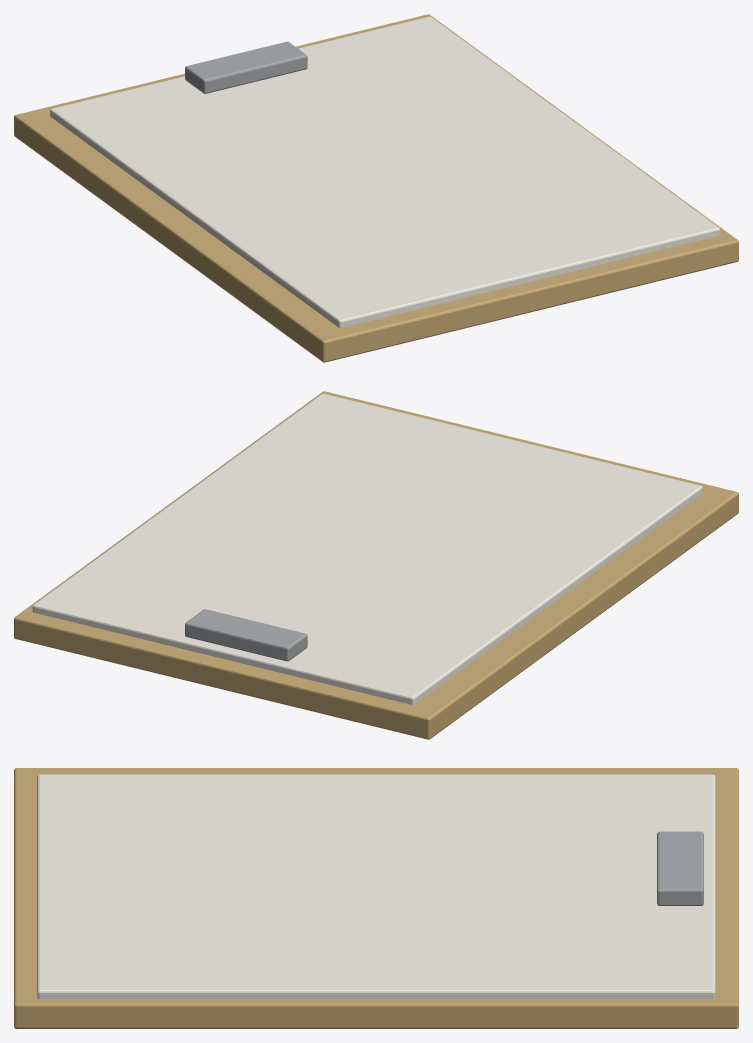
Rendered from PROP_Folder_MedicalChart.glb.
3 views of the same model, one above another, from view 1: azimuth 30°, elevation 25°; view 2: azimuth 150°, elevation 25°; view 3: azimuth 270°, elevation 25° (orthographic). The views are drawn at different scales.
Visible parts, largest first — view 1: PROP_Folder_MedicalChart_Mesh; view 2: PROP_Folder_MedicalChart_Mesh; view 3: PROP_Folder_MedicalChart_Mesh.
Boxes of the visible parts, x1=… form: PROP_Folder_MedicalChart_Mesh: x1=14, y1=14, x2=738, y2=362; PROP_Folder_MedicalChart_Mesh: x1=14, y1=391, x2=738, y2=739; PROP_Folder_MedicalChart_Mesh: x1=14, y1=768, x2=738, y2=1028.
Size of the model in its own units: 0.24 by 0.024 by 0.31.
